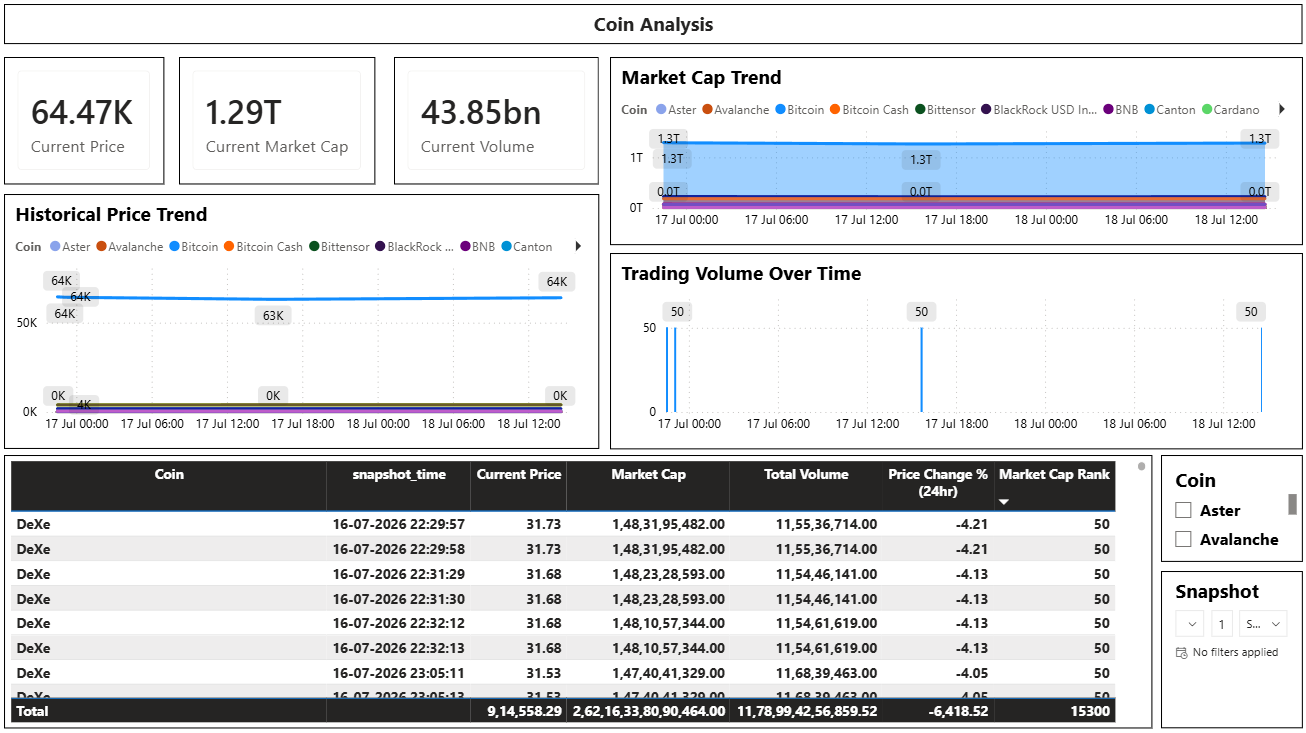

This screenshot's page, from the dashboard's own definition file:
{"tool":"powerbi","page":{"name":"Coin Analysis","canvas":[1280,720],"ordinal":2},"visuals":[{"type":"textbox","box":[7.8,7.8,1263.5,38.9],"z":0},{"type":"slicer","fields":{"Values":["crypto dim_coin.coin_name"]},"box":[1133.1,446.4,138.1,104.1],"z":1000},{"type":"slicer","fields":{"Values":["crypto fact_market_snapshot.snapshot_time"]},"box":[1133.1,559.3,138.1,152.7],"z":2000},{"type":"cardVisual","fields":{"Data":["Max(crypto fact_market_snapshot.current_price)"]},"box":[7.8,59.3,155.6,123.5],"z":3000},{"type":"cardVisual","fields":{"Data":["Max(crypto fact_market_snapshot.market_cap)"]},"box":[178,59.3,190.6,123.5],"z":4000},{"type":"cardVisual","fields":{"Data":["Max(crypto fact_market_snapshot.total_volume)"]},"box":[387.1,59.3,199.4,123.5],"z":5000},{"type":"lineChart","title":"Historical Price Trend","fields":{"Category":["crypto fact_market_snapshot.snapshot_time.Variation.Date Hierarchy.Year"],"Series":["crypto dim_coin.coin_name"],"Y":["Sum(crypto fact_market_snapshot.current_price)"]},"box":[7.8,192.6,578.7,248],"z":6000},{"type":"areaChart","title":"Market Cap Trend","fields":{"Category":["crypto fact_market_snapshot.snapshot_time.Variation.Date Hierarchy.Year"],"Series":["crypto dim_coin.coin_name"],"Y":["Sum(crypto fact_market_snapshot.market_cap)"]},"box":[597.2,59.3,674,182.9],"z":7000},{"type":"columnChart","title":"Trading Volume Over Time","fields":{"Y":["CountNonNull(crypto fact_market_snapshot.total_volume)"],"Category":["crypto fact_market_snapshot.snapshot_time.Variation.Date Hierarchy.Day"]},"box":[597.2,250,674,190.6],"z":8000},{"type":"tableEx","fields":{"Values":["crypto dim_coin.coin_name","crypto fact_market_snapshot.snapshot_time.Variation.Date Hierarchy.Year","Sum(crypto fact_market_snapshot.current_price)","Sum(crypto fact_market_snapshot.market_cap)","crypto etl_audit.Total Volume","Sum(crypto fact_market_snapshot.price_change_24h)","Sum(crypto fact_market_snapshot.market_cap_rank)"]},"box":[7.8,446.4,1116.6,265.5],"z":9000}]}

Visuals, with their boxes in screenshot pixels (x1, y1, x2, y2), scaled from the page's 1280x720 canvas onto the 1306x733 screenshot:
textbox: 8, 8, 1297, 48
slicer - crypto dim_coin.coin_name: 1156, 454, 1297, 560
slicer - crypto fact_market_snapshot.snapshot_time: 1156, 569, 1297, 725
cardVisual - Max(crypto fact_market_snapshot.current_price): 8, 60, 167, 186
cardVisual - Max(crypto fact_market_snapshot.market_cap): 182, 60, 376, 186
cardVisual - Max(crypto fact_market_snapshot.total_volume): 395, 60, 598, 186
"Historical Price Trend" lineChart: 8, 196, 598, 449
"Market Cap Trend" areaChart: 609, 60, 1297, 247
"Trading Volume Over Time" columnChart: 609, 255, 1297, 449
tableEx - crypto dim_coin.coin_name x crypto fact_market_snapshot.snapshot_time.Variation.Date Hierarchy.Year: 8, 454, 1147, 725
